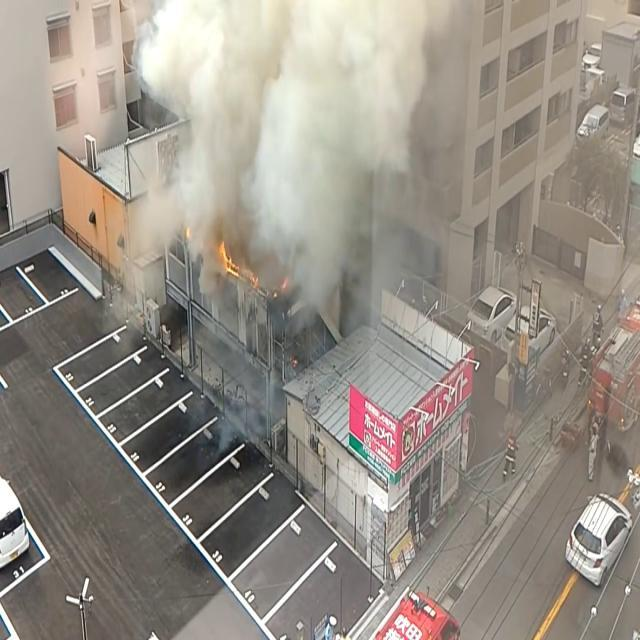Smoke: (118, 0, 458, 329)
